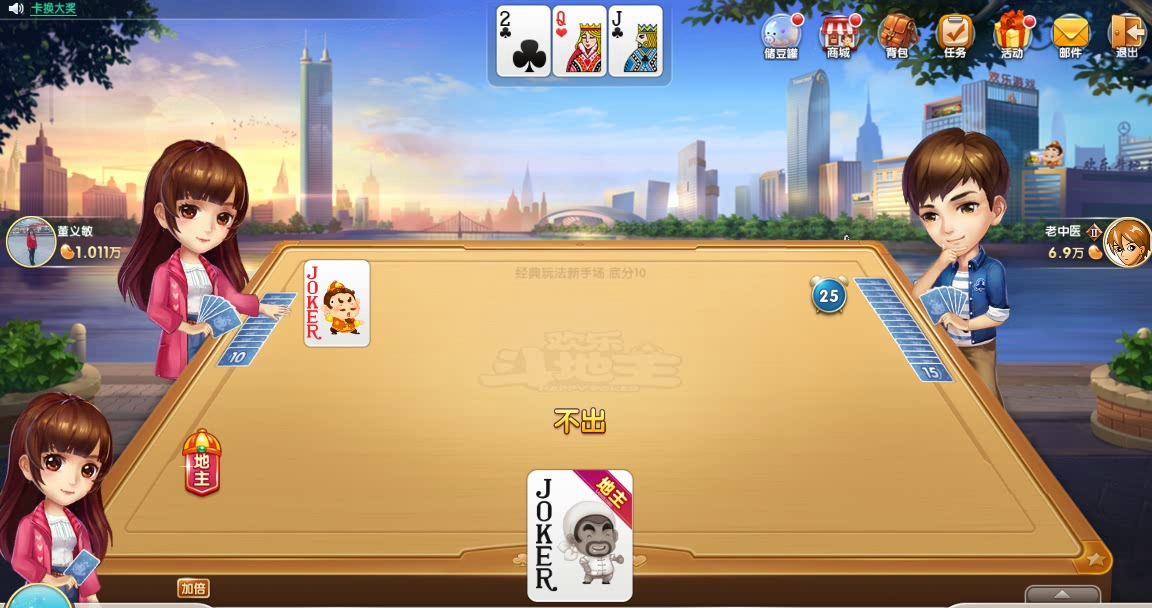11~2: (607, 4, 662, 77)
12~3: (551, 4, 606, 77)
15~2: (495, 4, 550, 77)
17~3: (526, 470, 632, 601)
18~4: (302, 259, 372, 347)
